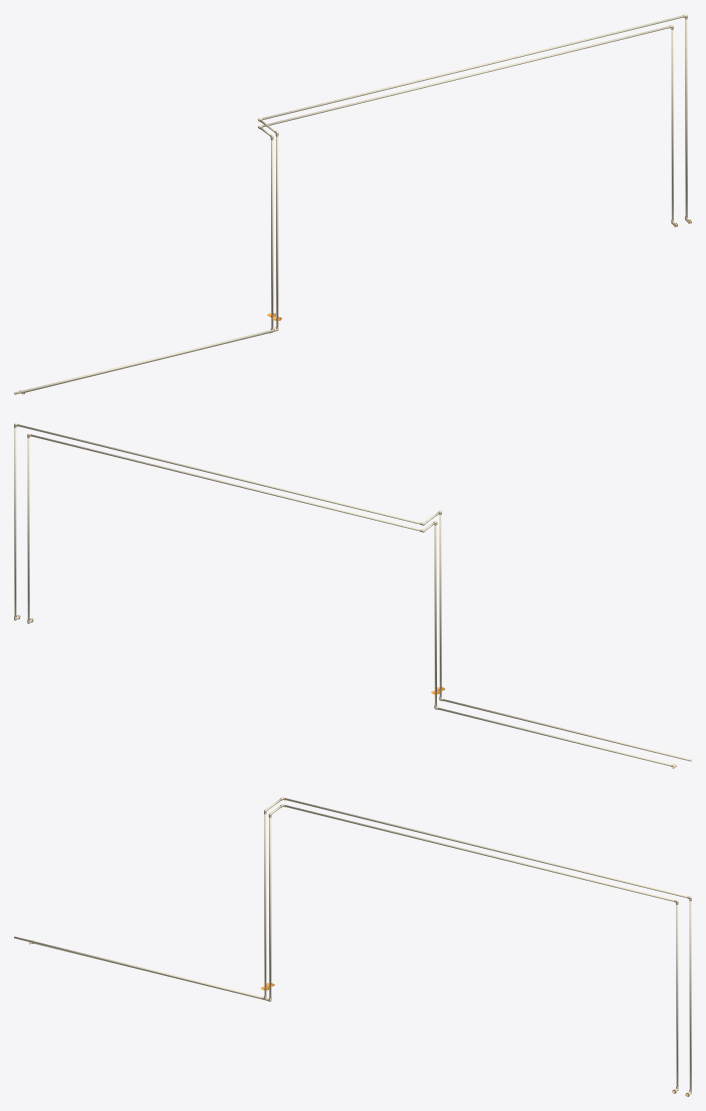
Rendered from pipes_supply__water_heater-garage_electric_tankless_and_plumbing-cpvc.glb.
3 views of the same model, one above another, from view 1: azimuth 30°, elevation 25°; view 2: azimuth 150°, elevation 25°; view 3: azimuth 330°, elevation 25° (orthographic). The views are drawn at different scales.
Parts seen in each view (by area): view 1: pipe_supply_cold_wh_etankless, pipe_supply_hot_wh_etankless; view 2: pipe_supply_cold_wh_etankless, pipe_supply_hot_wh_etankless; view 3: pipe_supply_cold_wh_etankless, pipe_supply_hot_wh_etankless.
Part boxes in pixels (box(x1,y1,x2,y2)): pipe_supply_cold_wh_etankless: box(14, 15, 687, 394); pipe_supply_hot_wh_etankless: box(25, 26, 673, 392); pipe_supply_cold_wh_etankless: box(14, 424, 691, 761); pipe_supply_hot_wh_etankless: box(27, 434, 671, 766); pipe_supply_cold_wh_etankless: box(14, 798, 691, 1089); pipe_supply_hot_wh_etankless: box(34, 805, 678, 1086).
Bounding box in the file's own units: 8 × 2.28 × 0.426.
